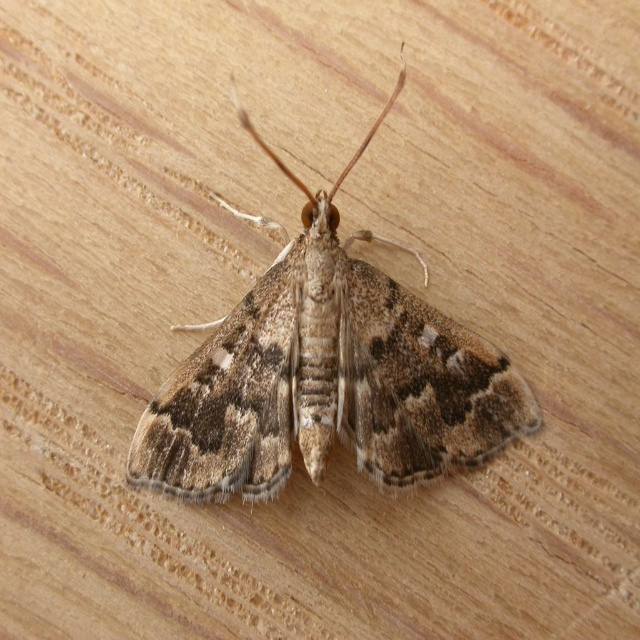Moths and butterflies: (126, 39, 544, 515)
